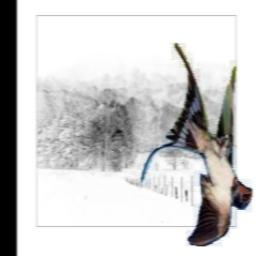Swallow: (142, 43, 253, 247)
